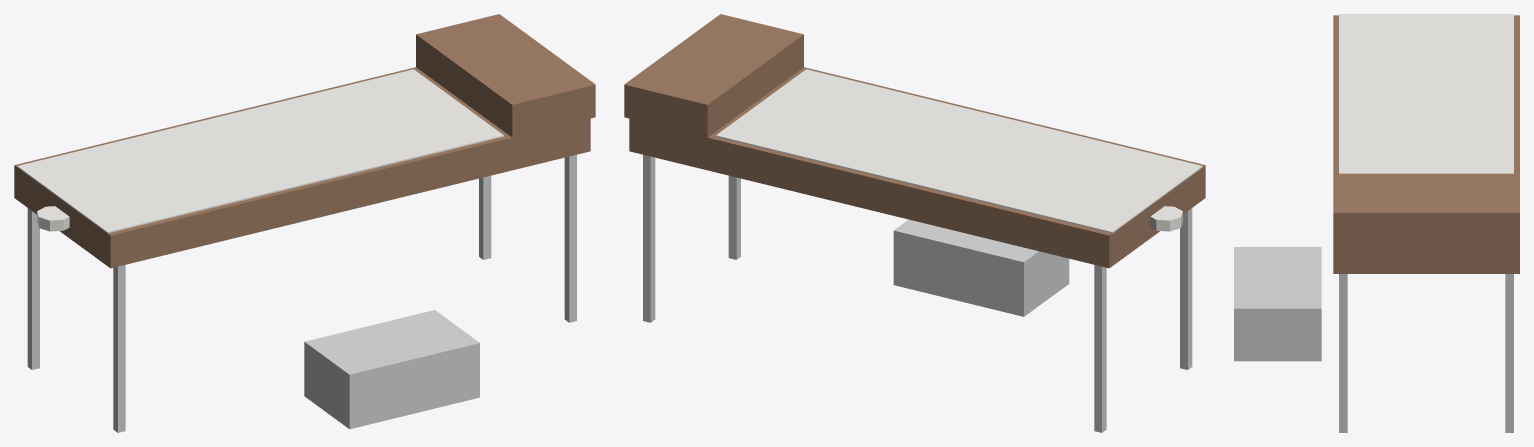
The model's file is Exam_Couch.fbx.
3 views of the same model, side by side, from view 1: azimuth 30°, elevation 25°; view 2: azimuth 150°, elevation 25°; view 3: azimuth 270°, elevation 25° (orthographic). The views are drawn at different scales.
Visible parts, largest first — view 1: Exam_Couch; view 2: Exam_Couch; view 3: Exam_Couch.
Boxes of the visible parts, x1,y1,x2,y2 form: Exam_Couch: [14, 14, 595, 432]; Exam_Couch: [624, 14, 1205, 432]; Exam_Couch: [1234, 14, 1519, 432].
Size of the model in its own units: 1.95 by 0.86 by 0.98.
